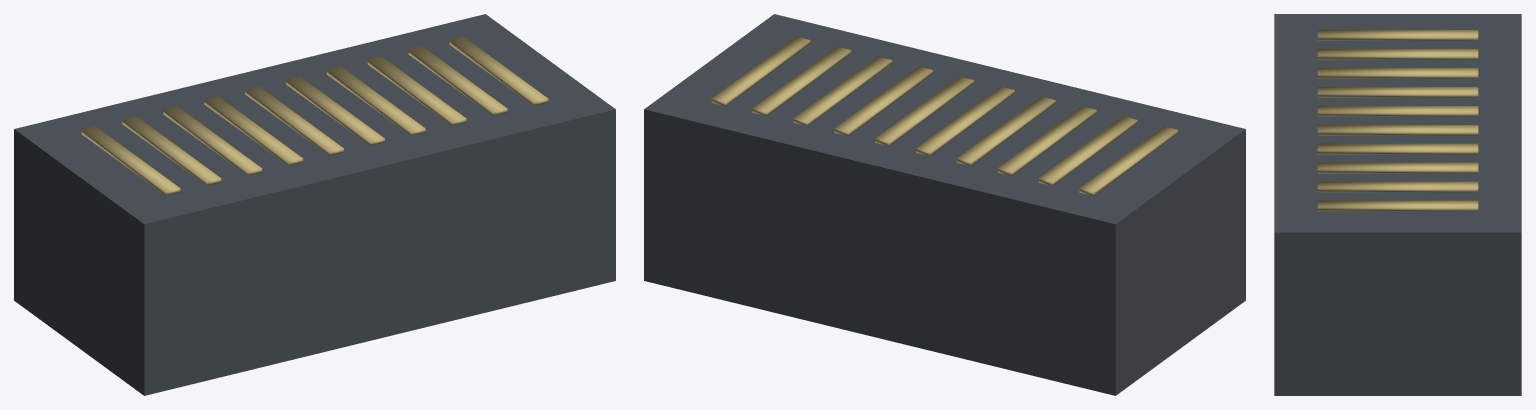
3 renders of one model, left to right at view 1: azimuth 30°, elevation 25°; view 2: azimuth 150°, elevation 25°; view 3: azimuth 270°, elevation 25°, orthographic. The views are drawn at different scales.
Parts seen in each view (by area): view 1: __PSMAT__Connector_Polymer, __PSMAT__Gold_ENIG; view 2: __PSMAT__Connector_Polymer, __PSMAT__Gold_ENIG; view 3: __PSMAT__Connector_Polymer, __PSMAT__Gold_ENIG.
Boxes of the visible parts, x1,y1,x2,y2 form: __PSMAT__Connector_Polymer: (14,14,615,395); __PSMAT__Gold_ENIG: (81,36,548,195); __PSMAT__Connector_Polymer: (644,14,1245,395); __PSMAT__Gold_ENIG: (711,36,1178,195); __PSMAT__Connector_Polymer: (1274,14,1521,395); __PSMAT__Gold_ENIG: (1317,30,1478,211).
Size of the model in its own units: 0.023 by 0.00823 by 0.011.
